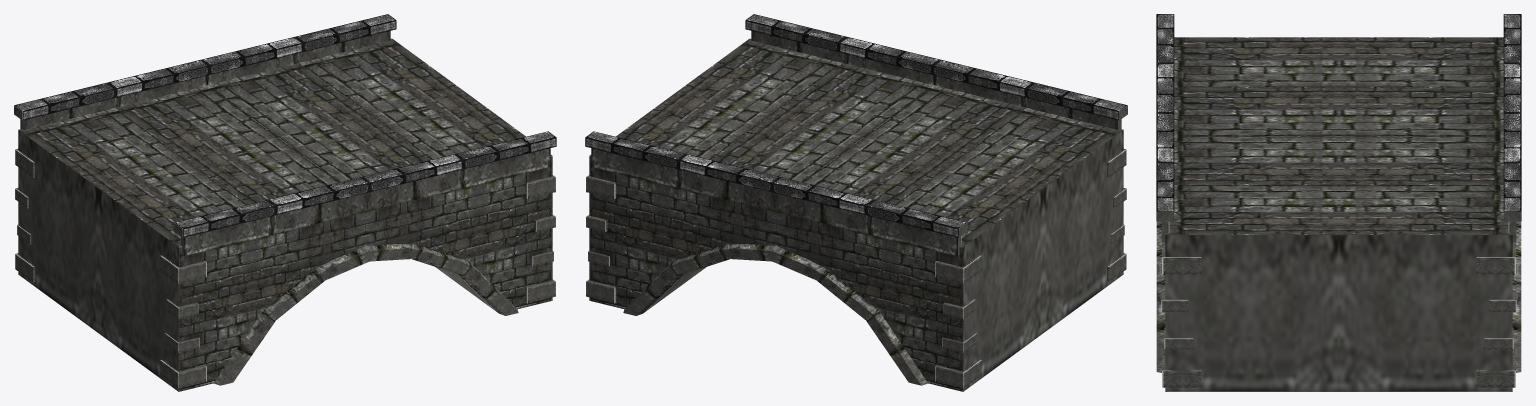
The model's file is stone_lod_rock.FBX.
3 views of the same model, side by side, from view 1: azimuth 30°, elevation 25°; view 2: azimuth 150°, elevation 25°; view 3: azimuth 270°, elevation 25° (orthographic). The views are drawn at different scales.
Parts seen in each view (by area): view 1: stone_lod_rock; view 2: stone_lod_rock; view 3: stone_lod_rock.
Part boxes in pixels (box(x1,y1,x2,y2)): stone_lod_rock: box(14, 14, 556, 391); stone_lod_rock: box(585, 14, 1127, 391); stone_lod_rock: box(1156, 14, 1521, 391).
Bounding box in the file's own units: 7.34 × 3.09 × 5.68.
